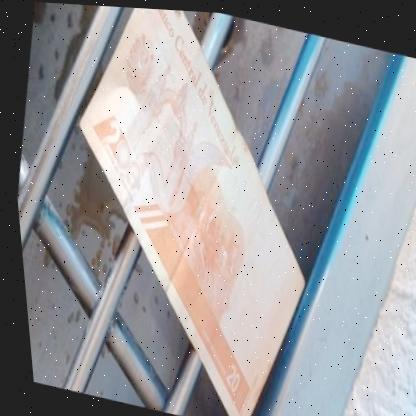twenty-back-vef: (19, 1, 353, 416)
